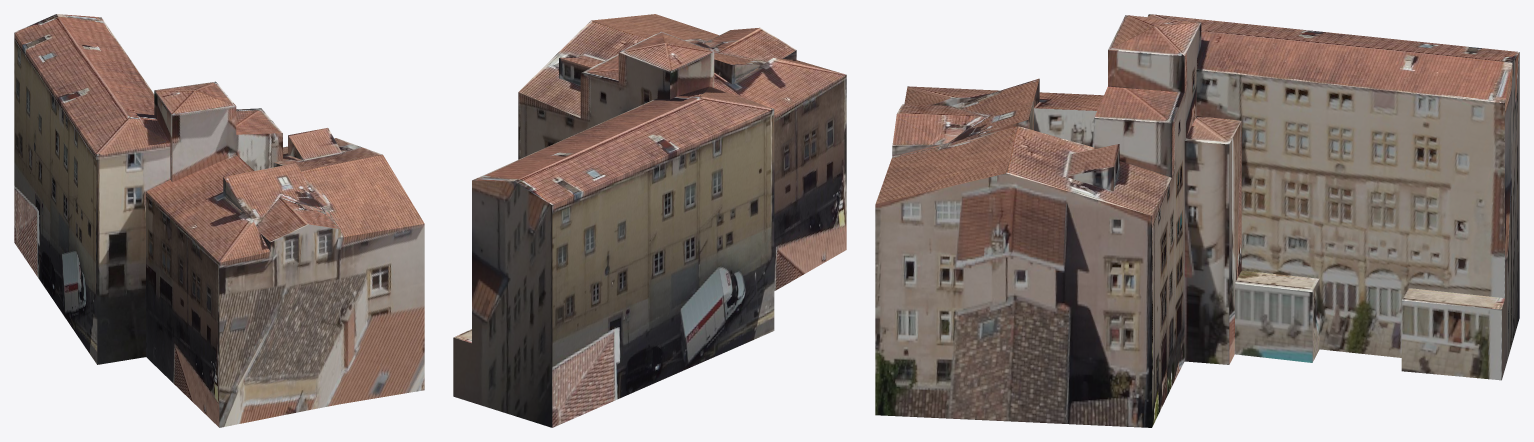
The picture shows the model from 3 angles, left to right: view 1: azimuth 30°, elevation 25°; view 2: azimuth 150°, elevation 25°; view 3: azimuth 270°, elevation 25°; orthographic projection. The views are drawn at different scales.
Visible parts, largest first — view 1: Z_UP; view 2: Z_UP; view 3: Z_UP.
Boxes of the visible parts, box(x1,y1,x2,y2) form: Z_UP: box(14, 14, 424, 427); Z_UP: box(453, 14, 846, 427); Z_UP: box(875, 14, 1519, 427).
Bounding box in the file's own units: 22.46 × 22.18 × 41.11.
2 materials, 1 textured.
